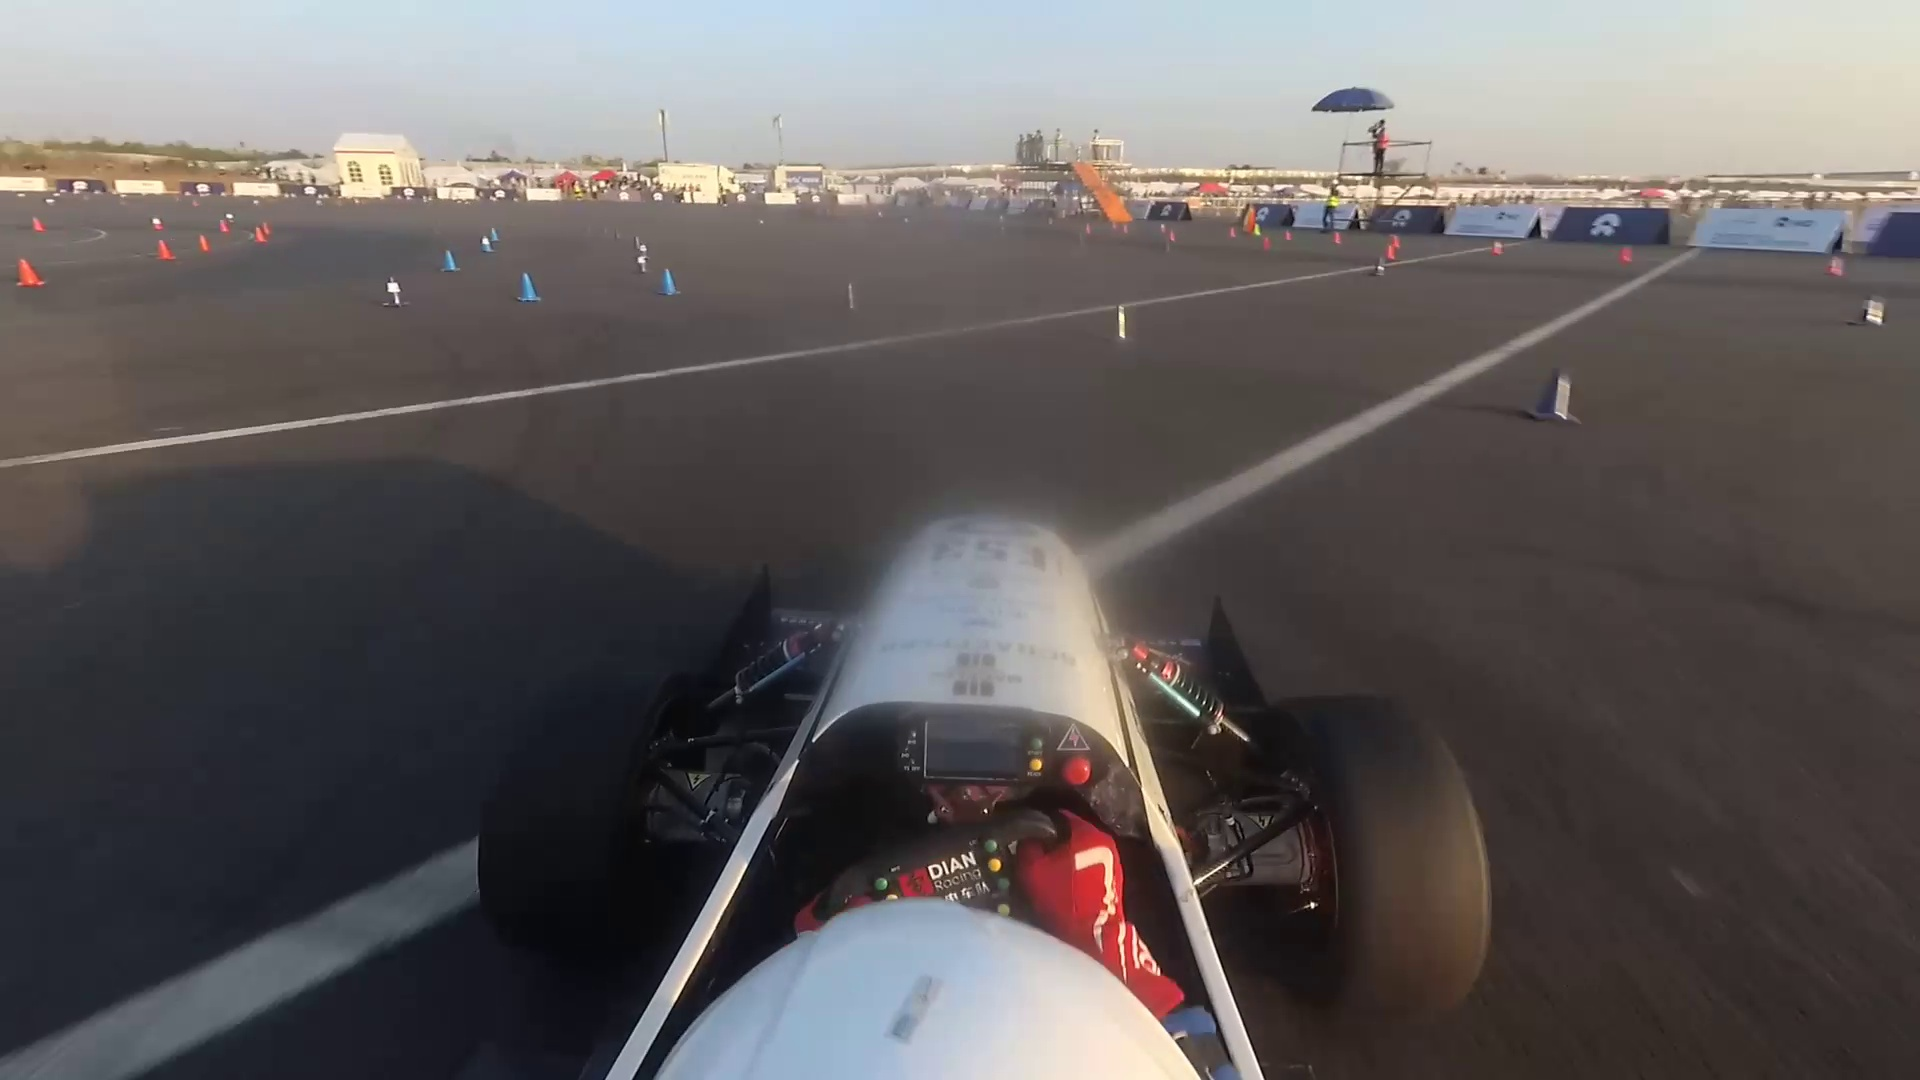blue_cone: (1528, 349, 1582, 433), (1108, 298, 1142, 356), (510, 269, 549, 311), (1855, 291, 1890, 335), (655, 262, 686, 301), (442, 243, 462, 276), (841, 284, 862, 314), (633, 251, 653, 276), (489, 222, 506, 244), (477, 233, 495, 256), (1375, 256, 1386, 277), (1164, 241, 1174, 255), (877, 206, 884, 219)
red_cone: (9, 255, 53, 301), (1825, 248, 1849, 281), (152, 239, 177, 266), (1615, 237, 1636, 269), (30, 212, 49, 237), (146, 212, 169, 231), (1490, 236, 1509, 258), (198, 232, 215, 255), (218, 214, 232, 240), (252, 227, 266, 245), (1391, 232, 1404, 251), (1385, 243, 1396, 262), (1261, 236, 1275, 252), (1331, 229, 1342, 247), (1226, 225, 1238, 239), (1283, 227, 1294, 241), (1112, 219, 1120, 232), (1159, 222, 1167, 233), (1087, 222, 1093, 235), (1170, 229, 1176, 241), (1121, 223, 1129, 232)
